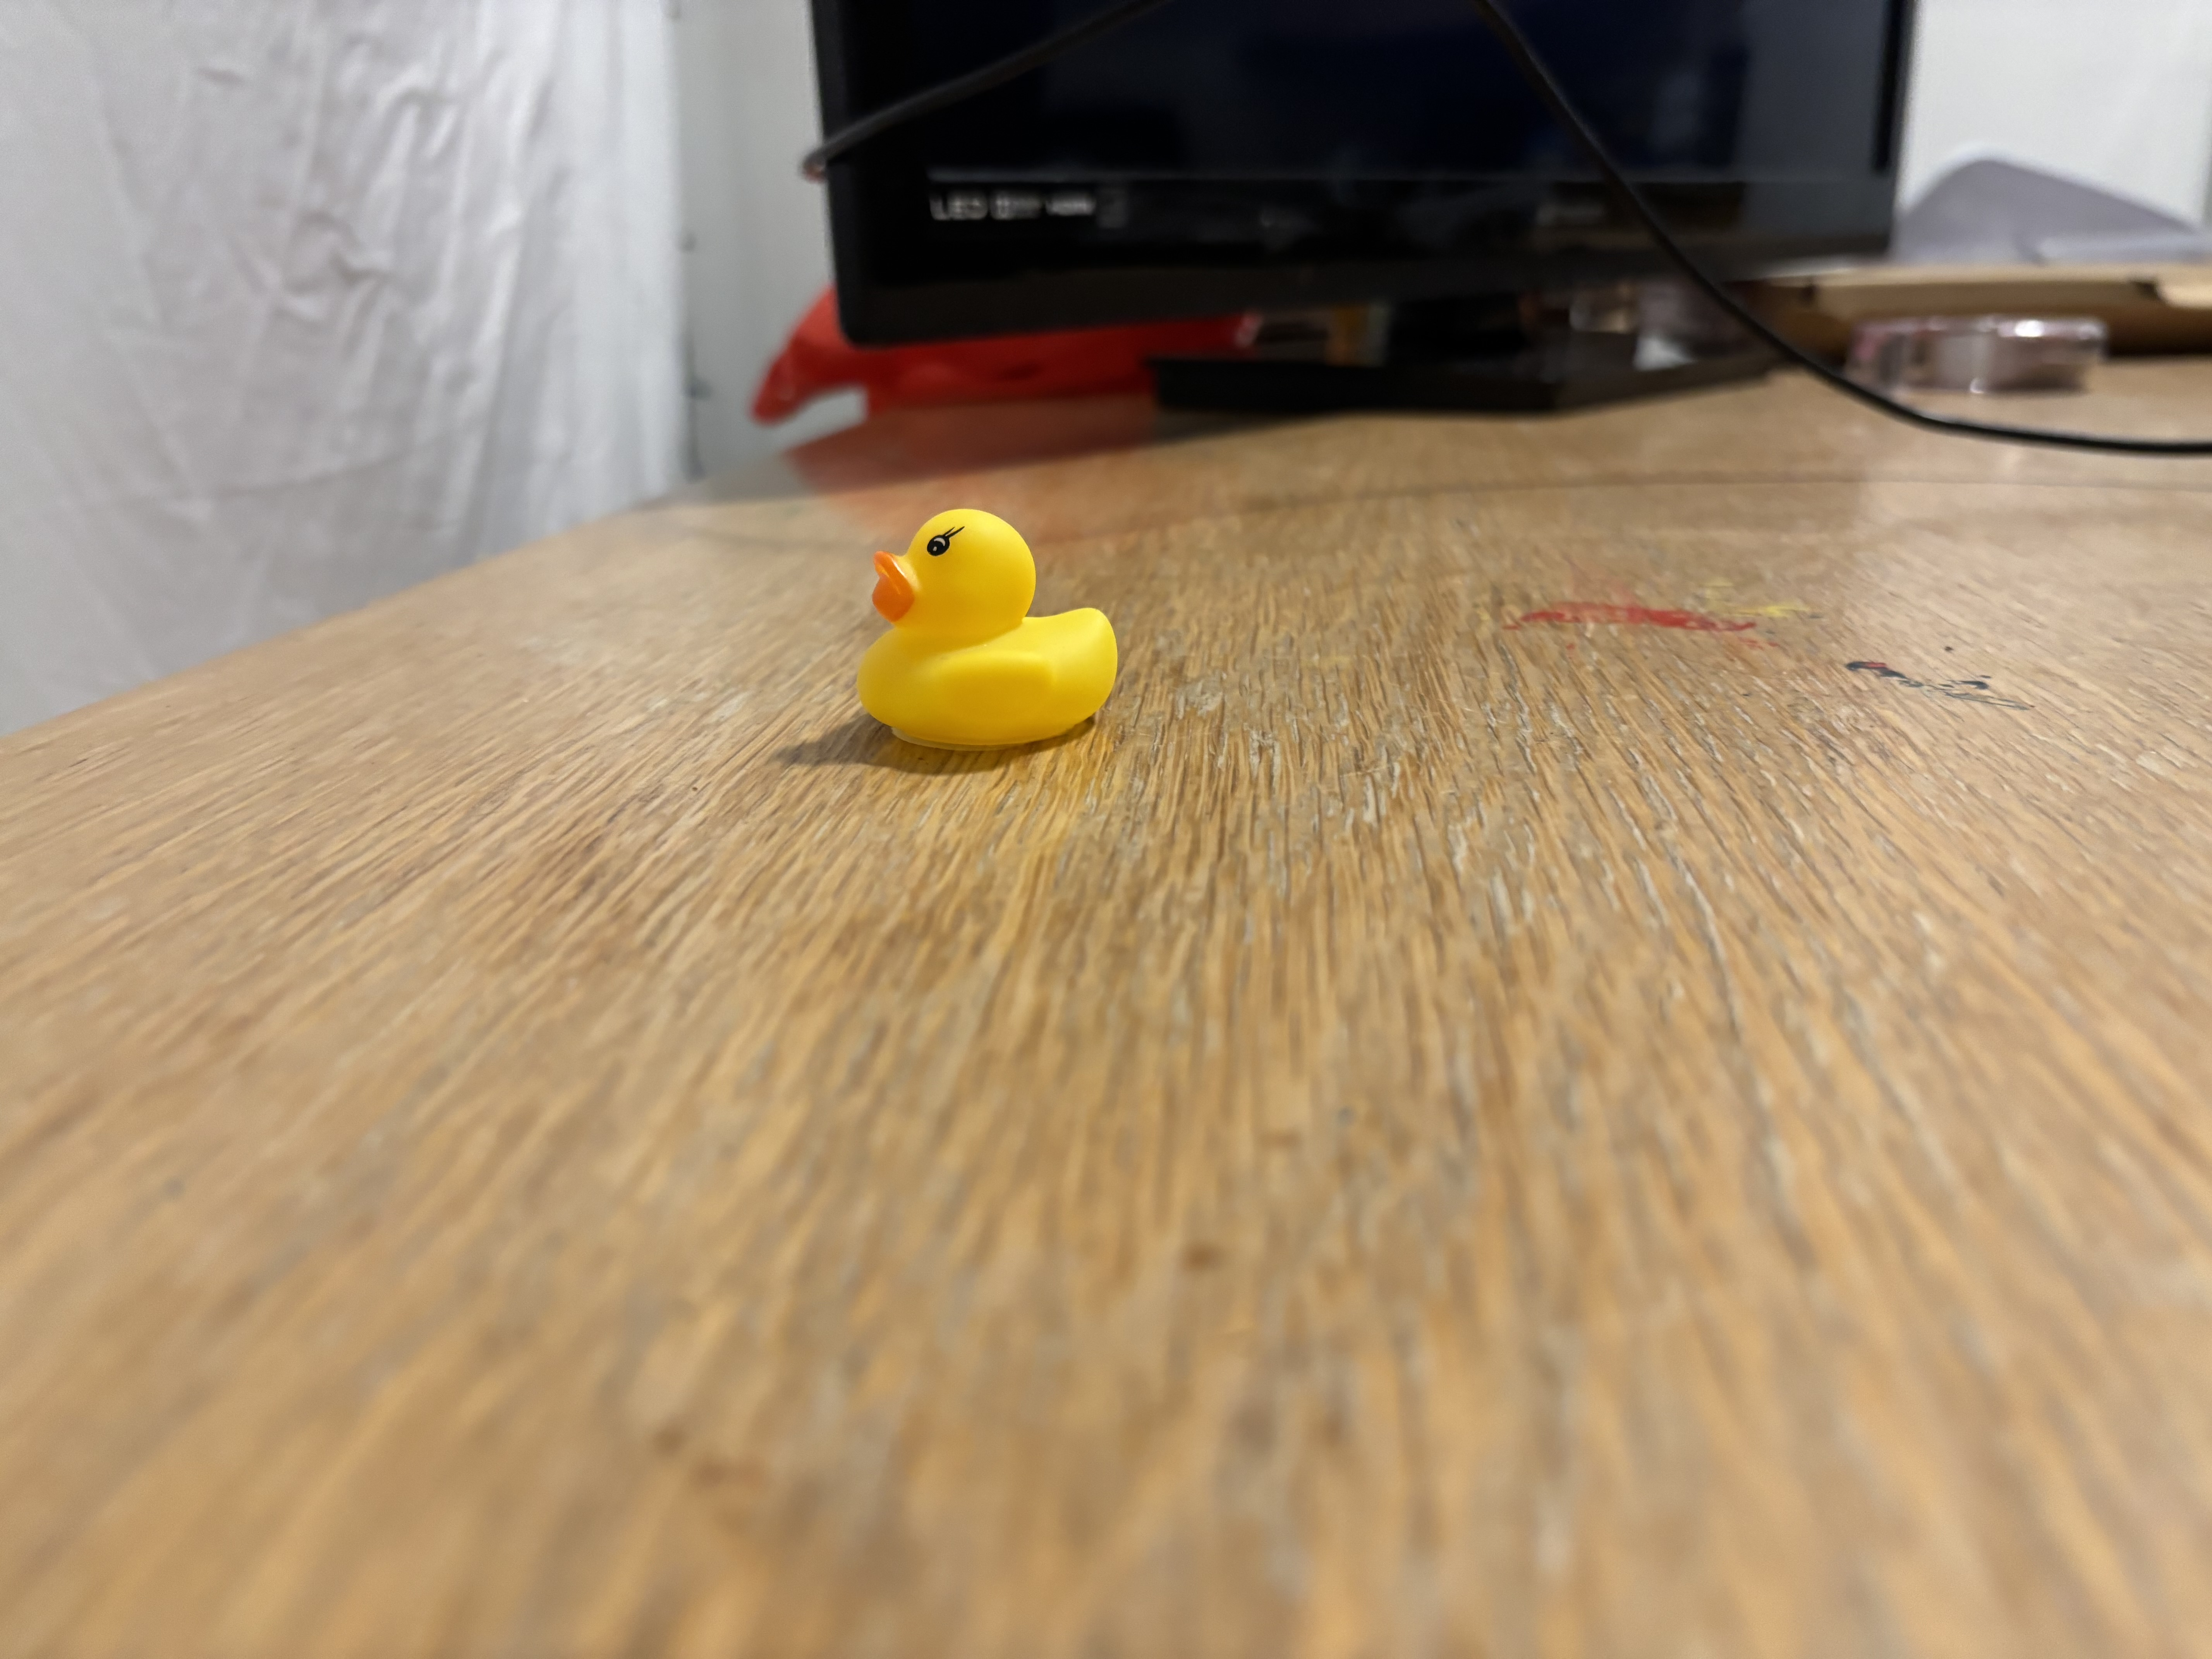duck_regular: (843, 498, 1146, 769)
